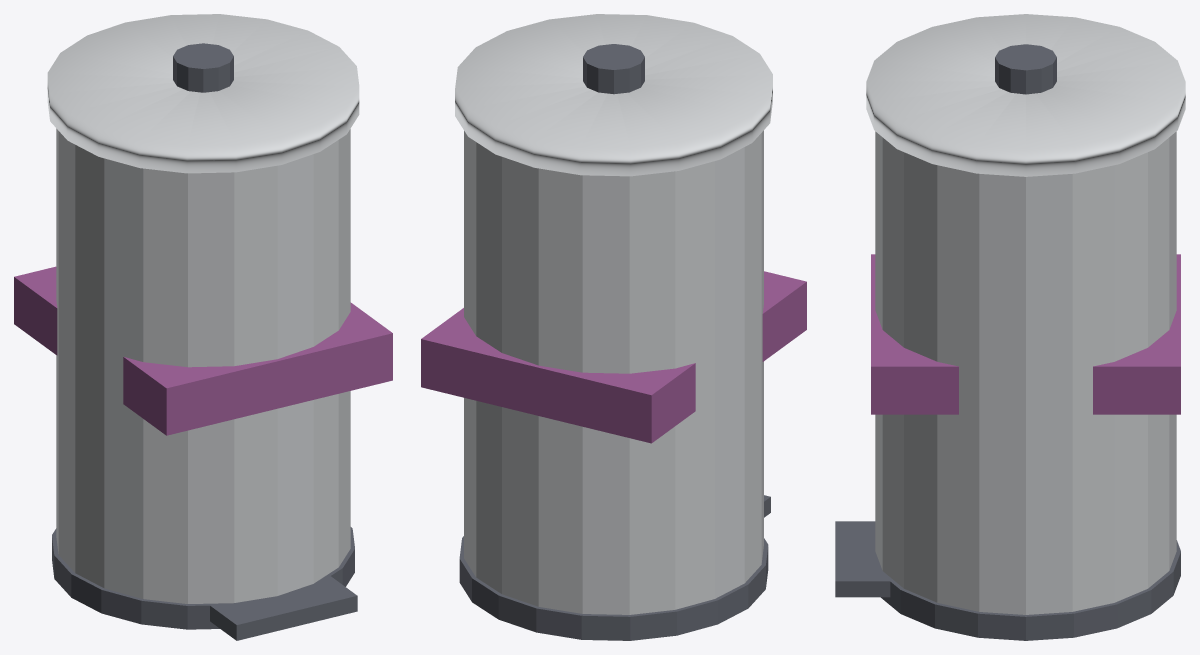
File: pharmacy-and-high-street-chemist-pedal-waste-bin-cb80c563__37522.glb
The picture shows the model from 3 angles, left to right: view 1: azimuth 30°, elevation 25°; view 2: azimuth 150°, elevation 25°; view 3: azimuth 270°, elevation 25°; orthographic projection.
Visible parts, largest first — view 1: pedal-waste-bin, lid/steel, lid/dark; view 2: pedal-waste-bin, lid/steel, lid/dark; view 3: pedal-waste-bin, lid/steel, lid/dark.
Part boxes in pixels (x1=…): pedal-waste-bin: x1=14, y1=128, x2=392, y2=640; lid/steel: x1=47, y1=14, x2=359, y2=173; lid/dark: x1=173, y1=43, x2=233, y2=92; pedal-waste-bin: x1=421, y1=130, x2=806, y2=640; lid/steel: x1=455, y1=14, x2=772, y2=176; lid/dark: x1=583, y1=44, x2=644, y2=94; pedal-waste-bin: x1=835, y1=131, x2=1180, y2=640; lid/steel: x1=866, y1=14, x2=1185, y2=176; lid/dark: x1=995, y1=44, x2=1056, y2=94.
Size of the model in its own units: 0.36 by 0.645 by 0.395.
